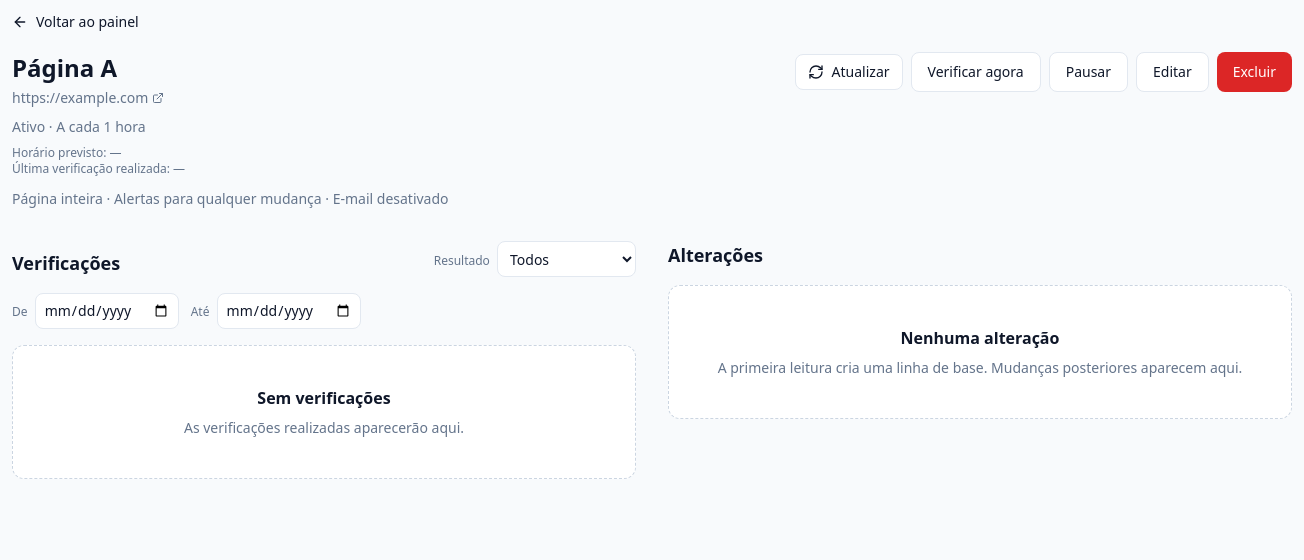
automatic refresh › updates the status after pausing a monitor
Click the button "Pausar" at point(1088, 72), box [1049,52,1128,92]
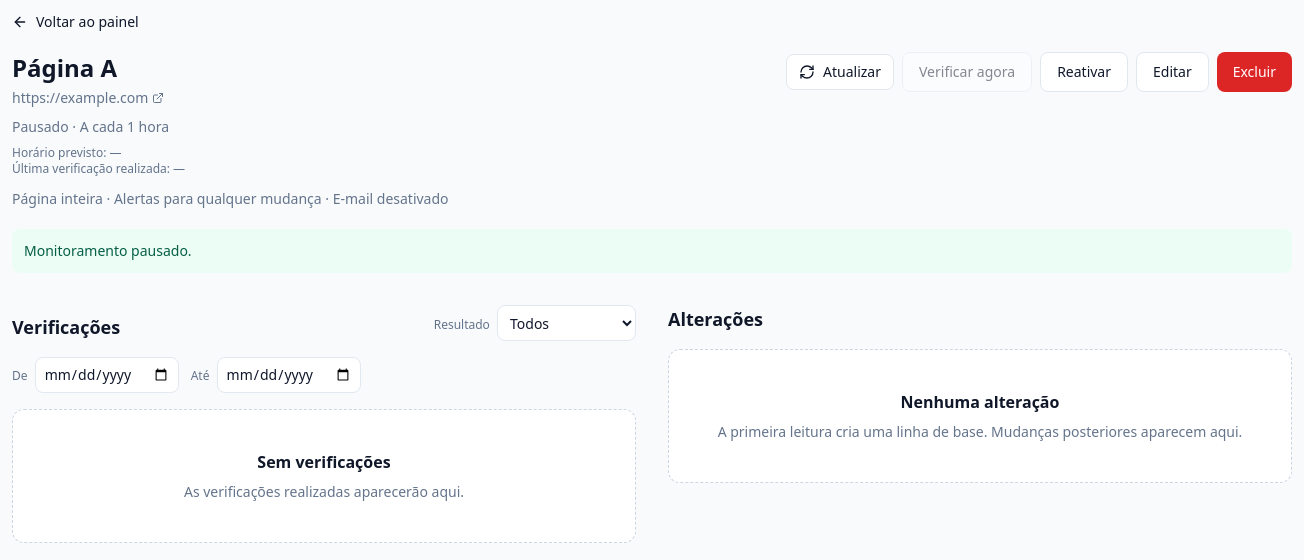
Result: the button "Reativar" is shown at [1040,52,1128,92]
